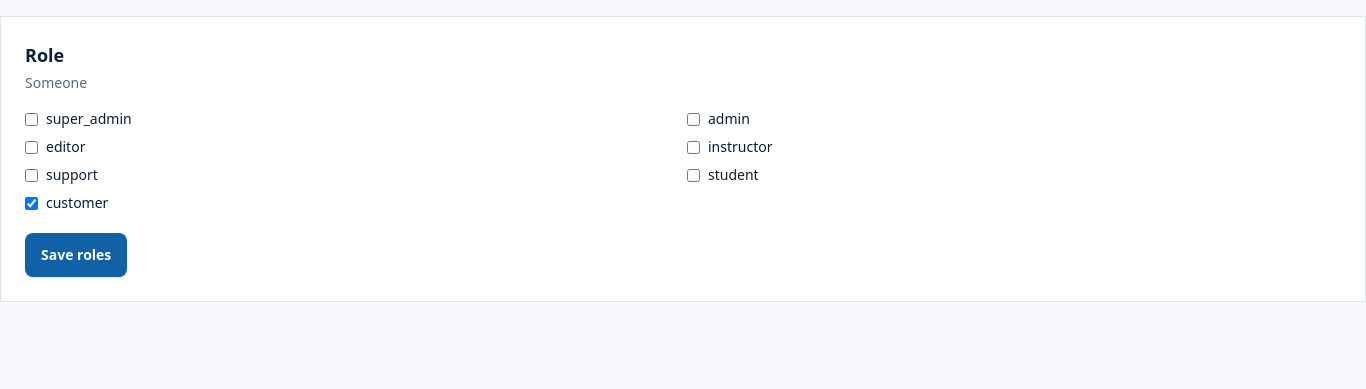
Test: RoleEditor › does not claim success when the change failed
The image size is (1366, 389).
Click the button "Save roles" at (76, 255), box [25,233,127,277]
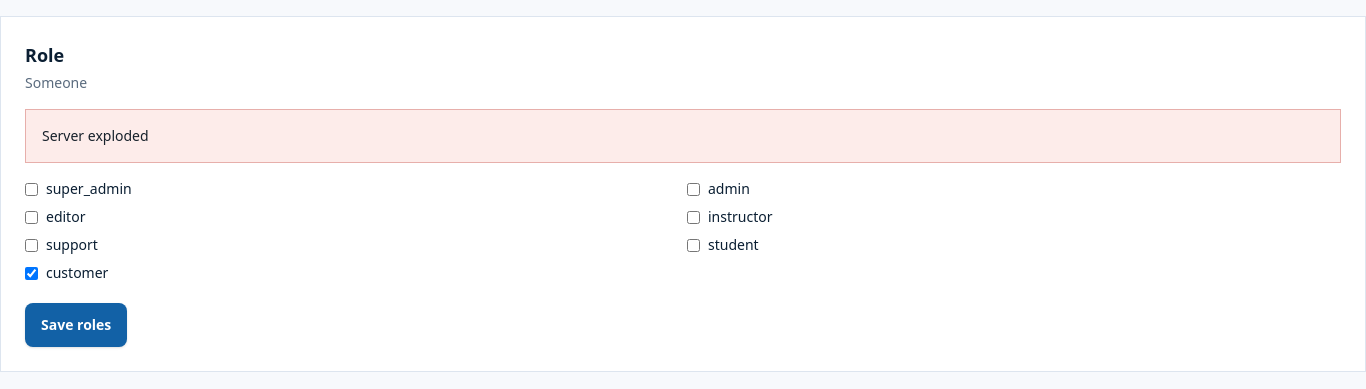
Check: the message reads "Server exploded", box [42,126,149,145]
